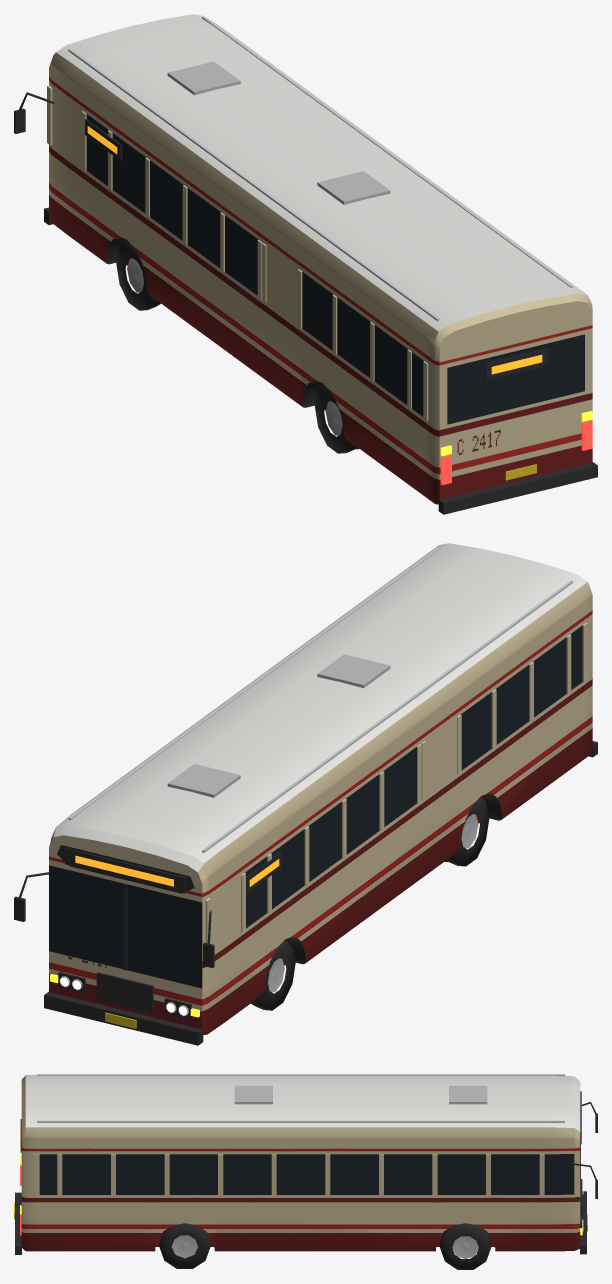
The model's file is bus_city_lod1.glb.
3 views of the same model, one above another, from view 1: azimuth 30°, elevation 25°; view 2: azimuth 150°, elevation 25°; view 3: azimuth 270°, elevation 25° (orthographic). The views are drawn at different scales.
Parts seen in each view (by area): view 1: body, wheel_fl, wheel_rl, dest_rear, dest_side; view 2: body, dest_front, wheel_fl, wheel_rl; view 3: body, wheel_fr, wheel_rr.
Part boxes in pixels (x1,y1,x2,y2): body: (14, 14, 597, 514); wheel_fl: (116, 241, 160, 310); wheel_rl: (315, 385, 359, 453); dest_rear: (485, 348, 547, 380); dest_side: (85, 119, 122, 160); body: (14, 543, 597, 1045); dest_front: (65, 848, 185, 893); wheel_fl: (251, 941, 295, 1010); wheel_rl: (444, 798, 489, 866); body: (14, 1074, 597, 1254); wheel_fr: (439, 1223, 491, 1269); wheel_rr: (159, 1223, 210, 1268).
Size of the model in its own units: 3.22 by 3.28 by 11.45.
Materials: 2 (2 with a texture image).
